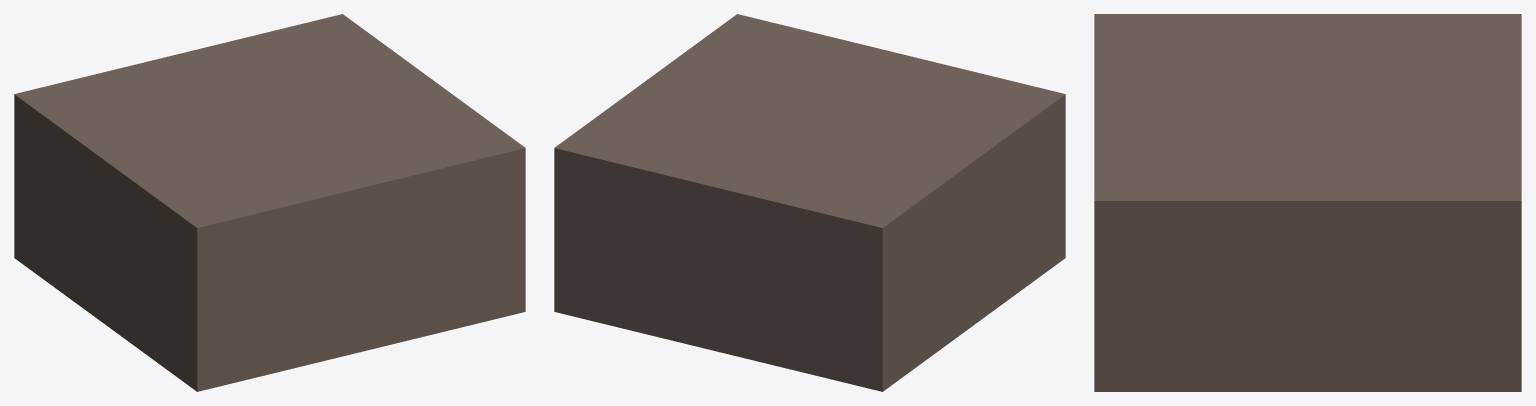
File: Caja_blocking.fbx
3 views of the same model, side by side, from view 1: azimuth 30°, elevation 25°; view 2: azimuth 150°, elevation 25°; view 3: azimuth 270°, elevation 25° (orthographic). The views are drawn at different scales.
Parts seen in each view (by area): view 1: Caja; view 2: Caja; view 3: Caja.
Boxes of the visible parts, x1,y1,x2,y2 form: Caja: (14,14,525,391); Caja: (554,14,1065,391); Caja: (1094,14,1521,391).
Bounding box in the file's own units: 2.1 × 1 × 2.03.
